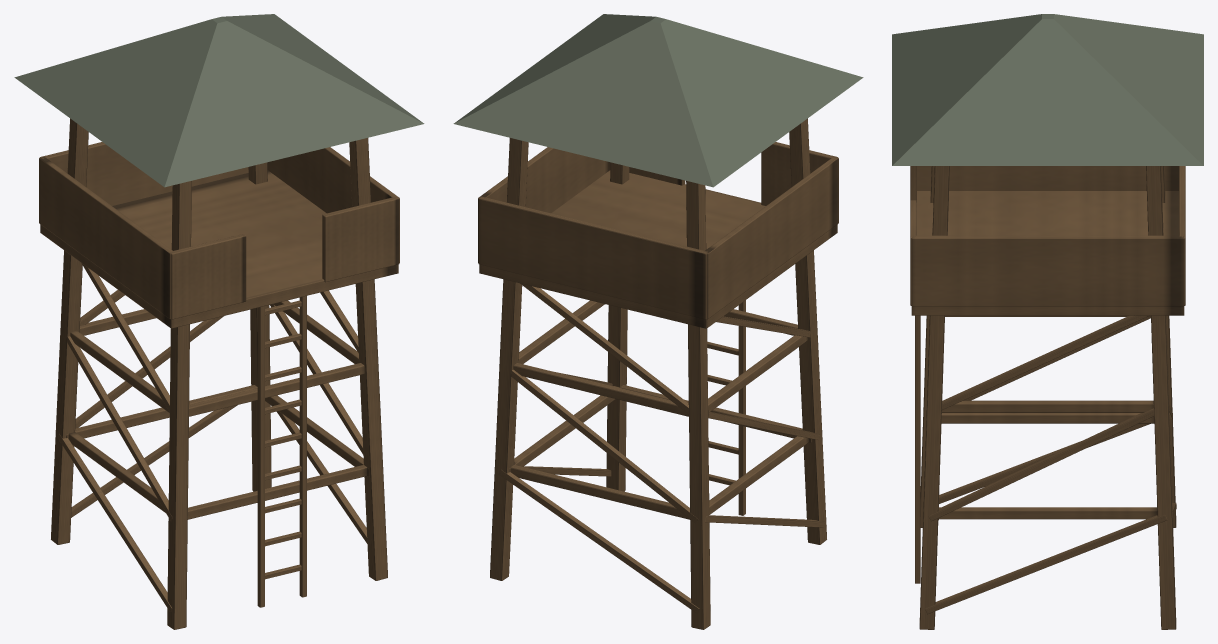
The model's file is tower.glb.
3 renders of one model, left to right at view 1: azimuth 30°, elevation 25°; view 2: azimuth 150°, elevation 25°; view 3: azimuth 270°, elevation 25°, orthographic. The views are drawn at different scales.
Visible parts, largest first — view 1: tower; view 2: tower; view 3: tower.
Part boxes in pixels (<box>): tower: <box>14,14,424,629</box>; tower: <box>453,14,863,629</box>; tower: <box>892,14,1203,629</box>.
Size of the model in its own units: 3.71 by 7.36 by 3.71.
Materials: 2 (1 with a texture image).
